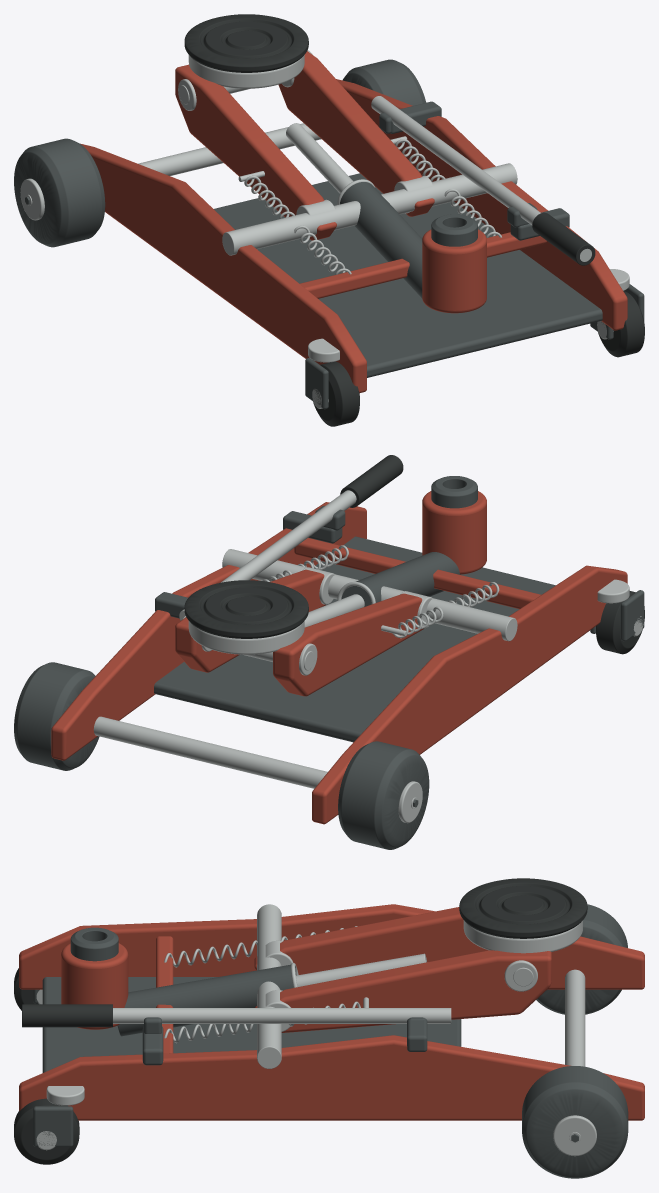
File: jack.fbx
3 views of the same model, one above another, from view 1: azimuth 30°, elevation 25°; view 2: azimuth 150°, elevation 25°; view 3: azimuth 270°, elevation 25° (orthographic). The views are drawn at different scales.
Parts seen in each view (by area): view 1: jack_LOD0; view 2: jack_LOD0; view 3: jack_LOD0.
Part boxes in pixels (left/top/right/bottom): jack_LOD0: left=14, top=14, right=644, bottom=426; jack_LOD0: left=14, top=455, right=644, bottom=849; jack_LOD0: left=14, top=878, right=644, bottom=1178.
Size of what is drawn, in the model's own units: 0.6375 by 0.281 by 0.867.
